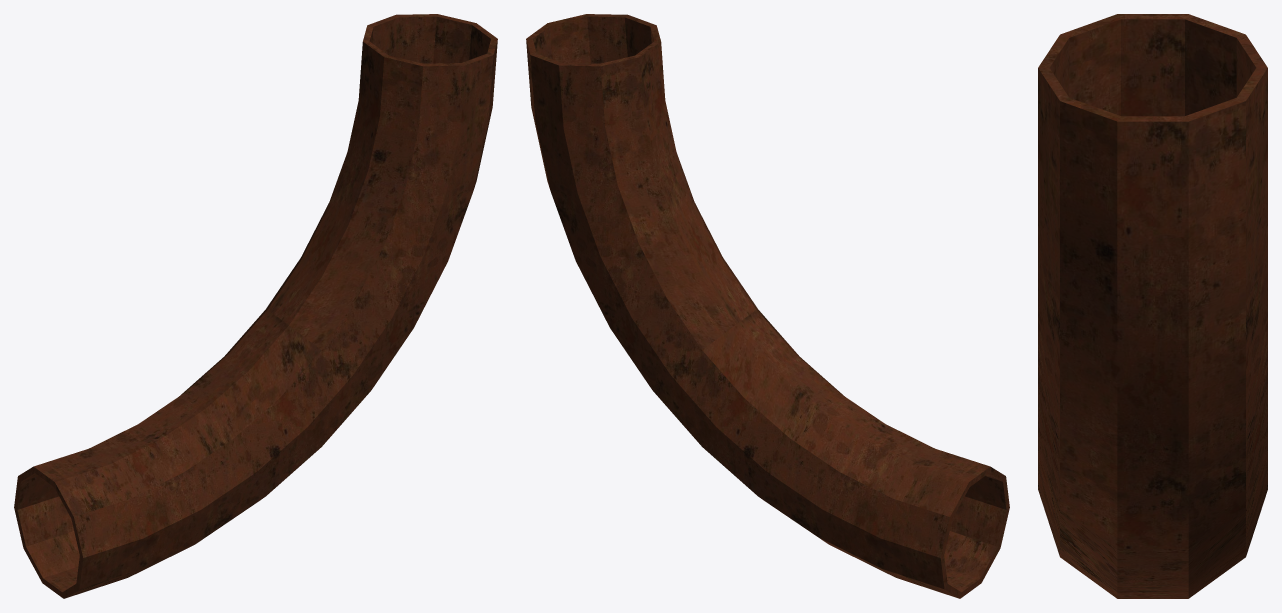
Rendered from pipe_2.glb.
3 views of the same model, side by side, from view 1: azimuth 30°, elevation 25°; view 2: azimuth 150°, elevation 25°; view 3: azimuth 270°, elevation 25° (orthographic). The views are drawn at different scales.
Visible parts, largest first — view 1: pipe_2; view 2: pipe_2; view 3: pipe_2.
Boxes of the visible parts, left/top/right/bottom form: pipe_2: left=14, top=14, right=497, bottom=598; pipe_2: left=526, top=14, right=1009, bottom=598; pipe_2: left=1038, top=14, right=1267, bottom=598.
Size of the model in its own units: 0.2217 by 0.2217 by 0.06.
Materials: 1 (1 with a texture image).
